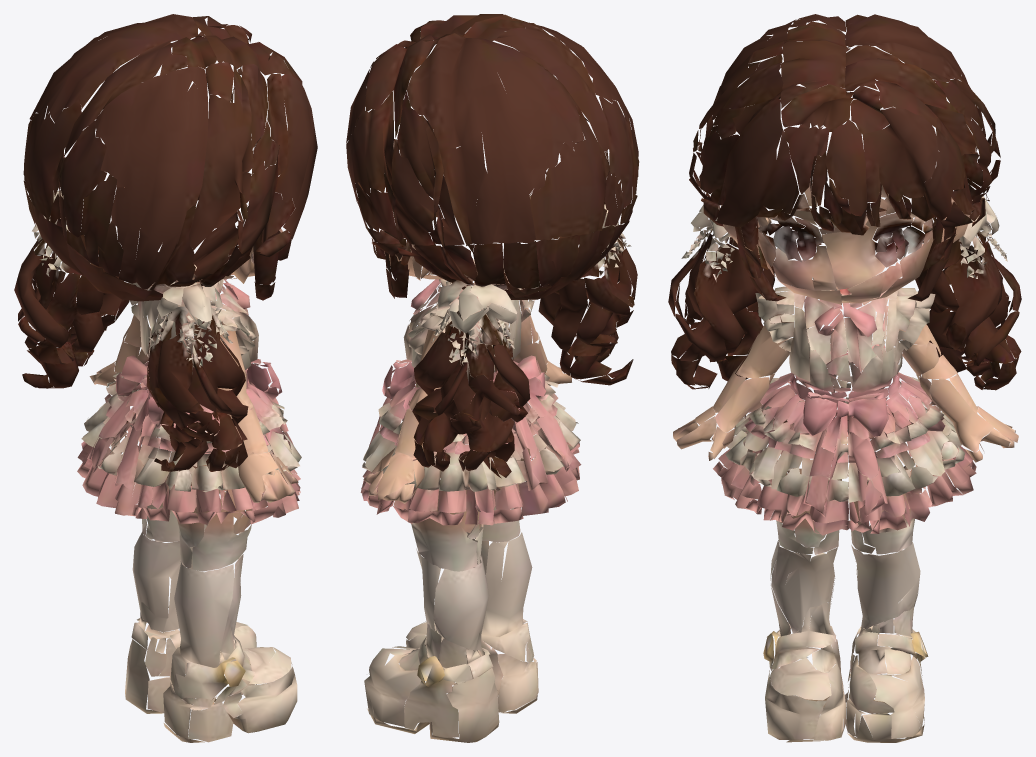
File: xiaoxing.glb
3 views of the same model, side by side, from view 1: azimuth 30°, elevation 25°; view 2: azimuth 150°, elevation 25°; view 3: azimuth 270°, elevation 25° (orthographic).
Visible parts, largest first — view 1: tripo_node_b5e4a4a8-9add-4bf1-9df3-81f3678b848b; view 2: tripo_node_b5e4a4a8-9add-4bf1-9df3-81f3678b848b; view 3: tripo_node_b5e4a4a8-9add-4bf1-9df3-81f3678b848b.
Boxes of the visible parts, x1=… form: tripo_node_b5e4a4a8-9add-4bf1-9df3-81f3678b848b: x1=14, y1=14, x2=317, y2=742; tripo_node_b5e4a4a8-9add-4bf1-9df3-81f3678b848b: x1=346, y1=14, x2=639, y2=742; tripo_node_b5e4a4a8-9add-4bf1-9df3-81f3678b848b: x1=668, y1=14, x2=1021, y2=742.
Bounding box in the file's own units: 0.3753 × 0.9819 × 0.4649.
Materials: 1 (1 with a texture image).
